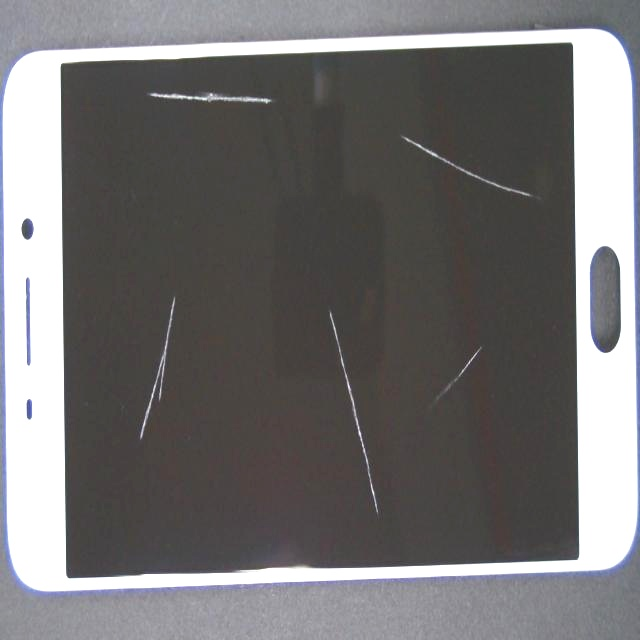scratch: (131, 13, 504, 548), (273, 123, 640, 520), (104, 45, 233, 500), (343, 144, 640, 251), (203, 44, 348, 118)
